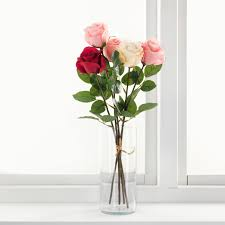lale: (72, 44, 111, 84), (82, 17, 112, 47), (142, 34, 167, 70), (101, 30, 125, 67), (120, 35, 143, 72)
